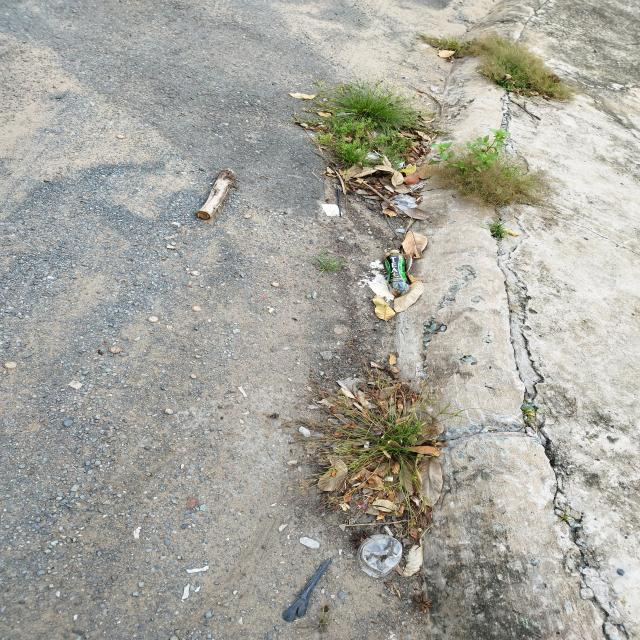bottle: (385, 250, 410, 296)
drinking straw: (337, 188, 342, 216)
lid: (356, 534, 403, 578)
plastic utensil: (282, 557, 332, 622)
